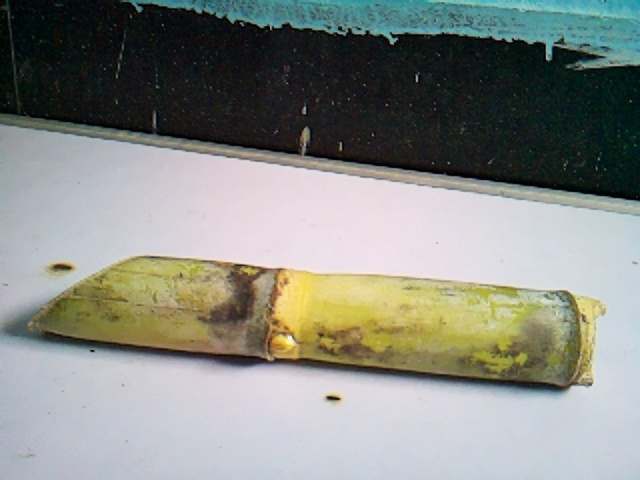Good Sugarcane: (24, 253, 606, 392)
Node: (229, 261, 307, 365)
